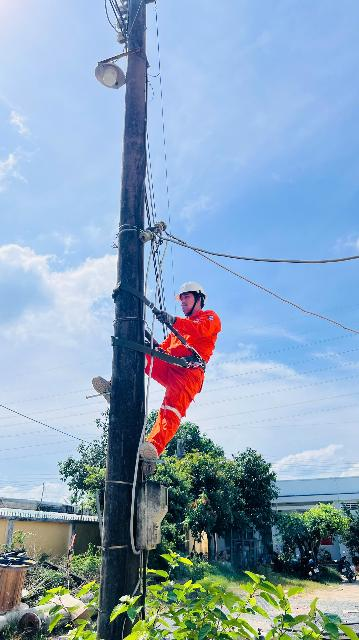gloves: (153, 305, 178, 327)
harness: (157, 328, 216, 375)
helmet: (174, 273, 214, 308)
shoes: (125, 435, 175, 486), (84, 371, 130, 404)
